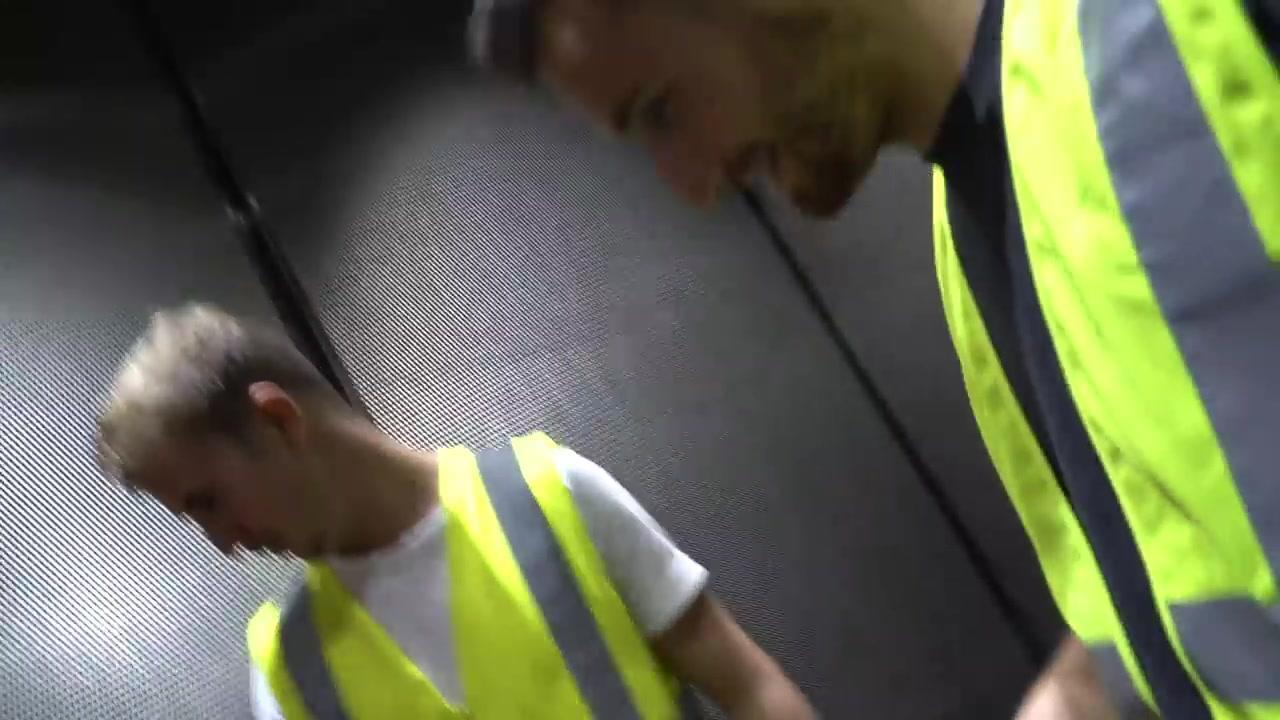vest: (925, 0, 1279, 719), (245, 430, 689, 718)
